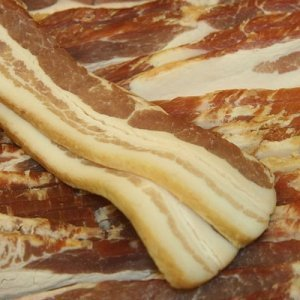bacon: (1, 9, 291, 292)
